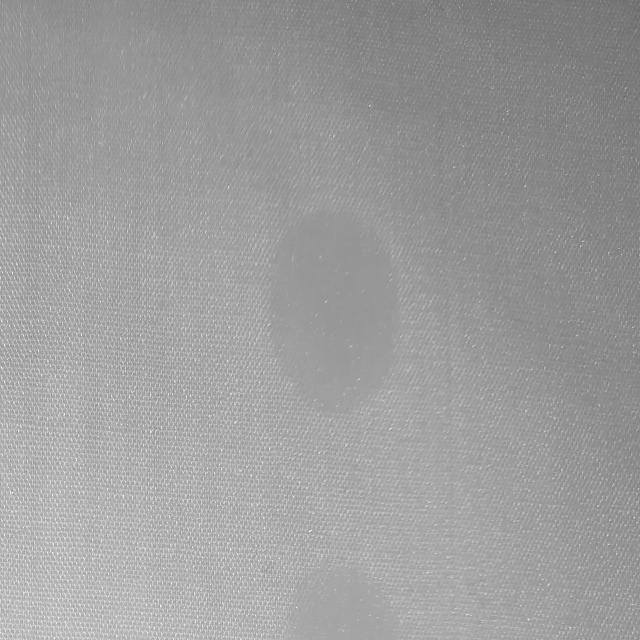Stain: (271, 213, 398, 412), (286, 566, 400, 640)
